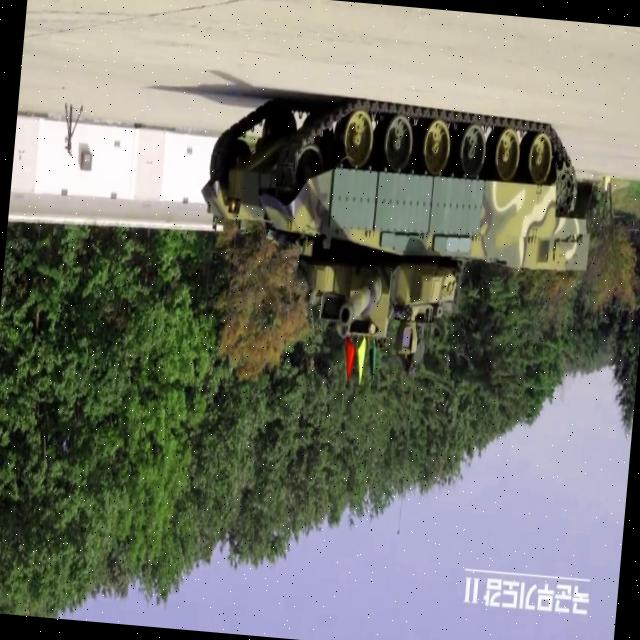korea tank: (184, 82, 602, 398)
